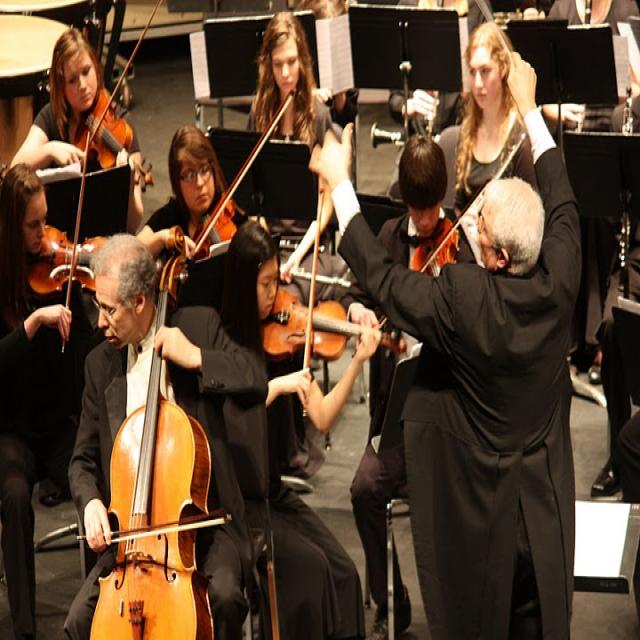cello: (94, 225, 214, 640)
clarinet: (616, 85, 636, 308)
violin: (259, 285, 407, 366), (73, 89, 154, 188), (31, 224, 112, 298), (408, 218, 458, 286)
